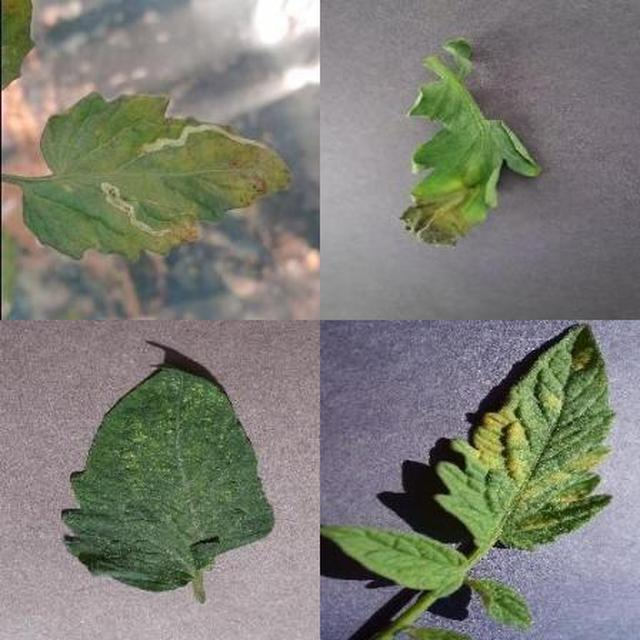Leaf Miner: (204, 100, 640, 640)
